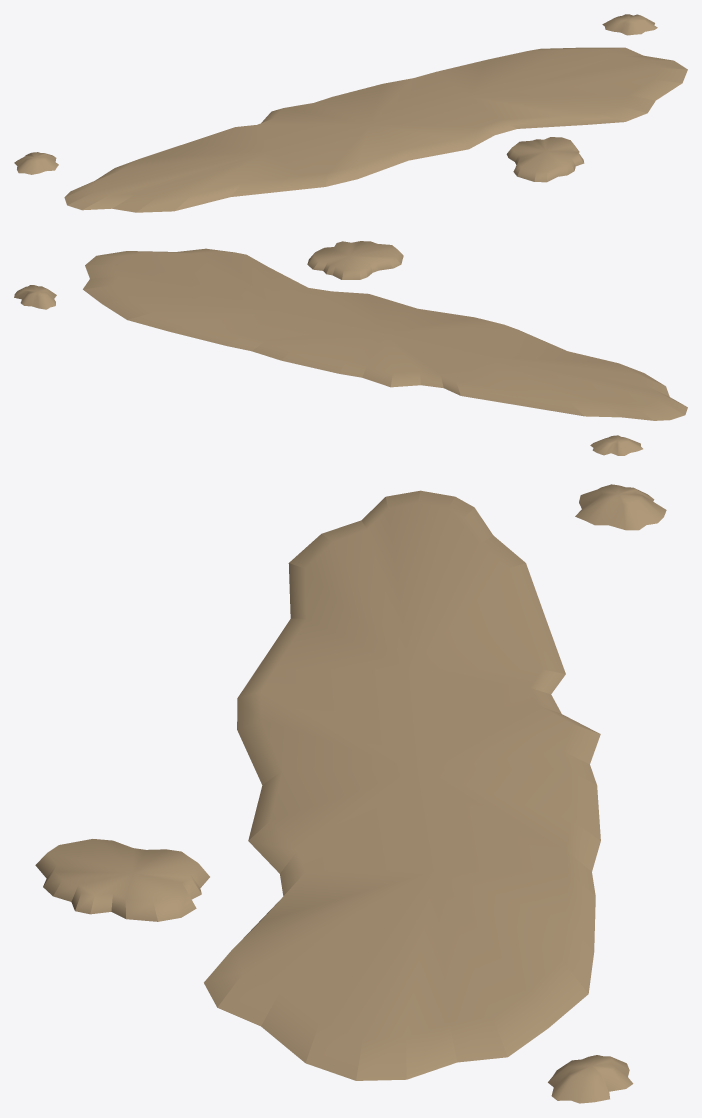
File: P_SteppingStones_02.fbx
3 renders of one model, top to bottom at view 1: azimuth 30°, elevation 25°; view 2: azimuth 150°, elevation 25°; view 3: azimuth 270°, elevation 25°, orthographic. The views are drawn at different scales.
Parts seen in each view (by area): view 1: lod1; view 2: lod1; view 3: lod1.
Boxes of the visible parts, left/top/right/bottom form: lod1: left=14, top=14, right=687, bottom=212; lod1: left=14, top=241, right=687, bottom=455; lod1: left=35, top=484, right=666, bottom=1103.
Size of the model in its own units: 690 by 7.96 by 299.
Materials: 1 (1 with a texture image).
